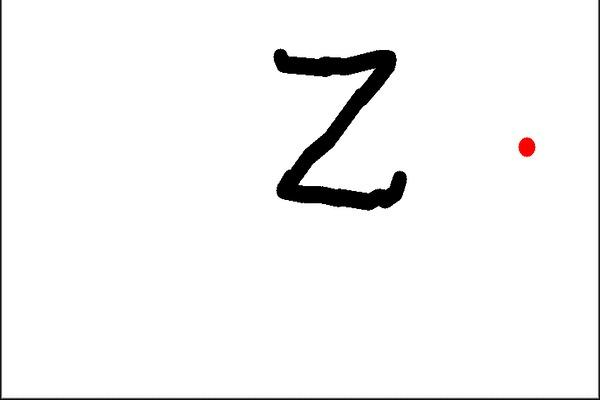Z: (258, 43, 408, 214)
